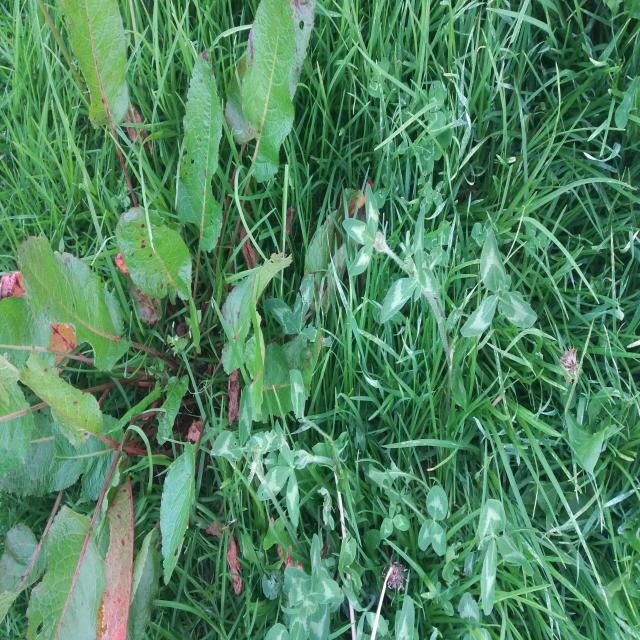Four Leaf Clover: (460, 229, 537, 337)
